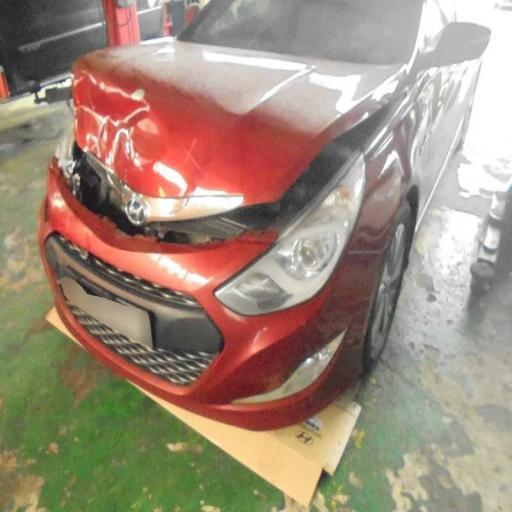broken: (47, 77, 347, 307)
